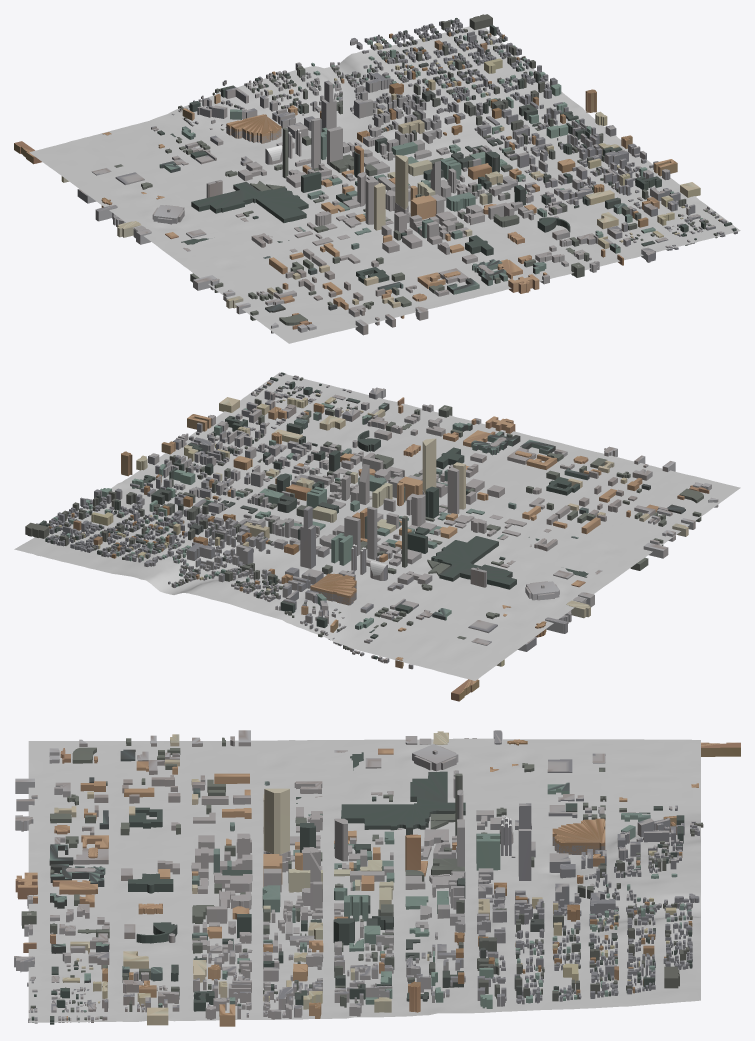
File: MapTest1.fbx
3 renders of one model, top to bottom at view 1: azimuth 30°, elevation 25°; view 2: azimuth 150°, elevation 25°; view 3: azimuth 270°, elevation 25°, orthographic. The views are drawn at different scales.
Visible parts, largest first — view 1: map_2.osm_buildings, Terrain; view 2: map_2.osm_buildings, Terrain; view 3: Terrain, map_2.osm_buildings.
Boxes of the visible parts, x1,y1,x2,y2 form: map_2.osm_buildings: (14,14,737,335); Terrain: (29,26,740,343); map_2.osm_buildings: (25,372,718,701); Terrain: (14,372,740,680); Terrain: (28,738,700,1022); map_2.osm_buildings: (14,730,740,1026).
Size of the model in its own units: 240704 by 44727 by 247335.
